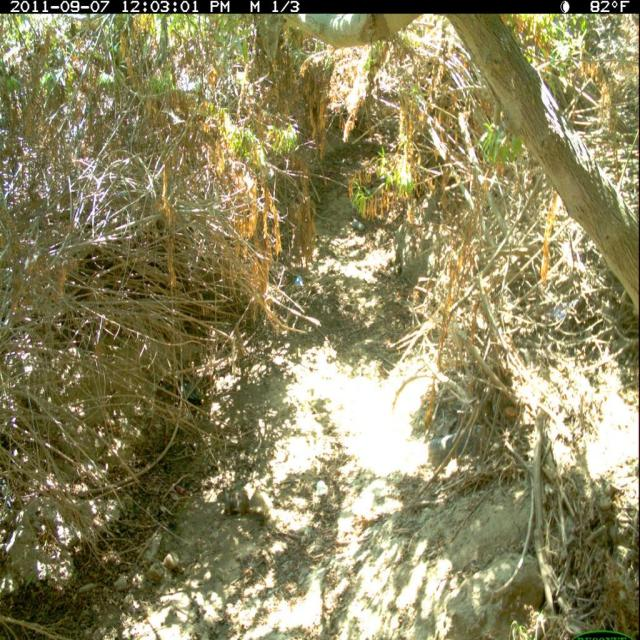squirrel: (215, 483, 276, 523)
